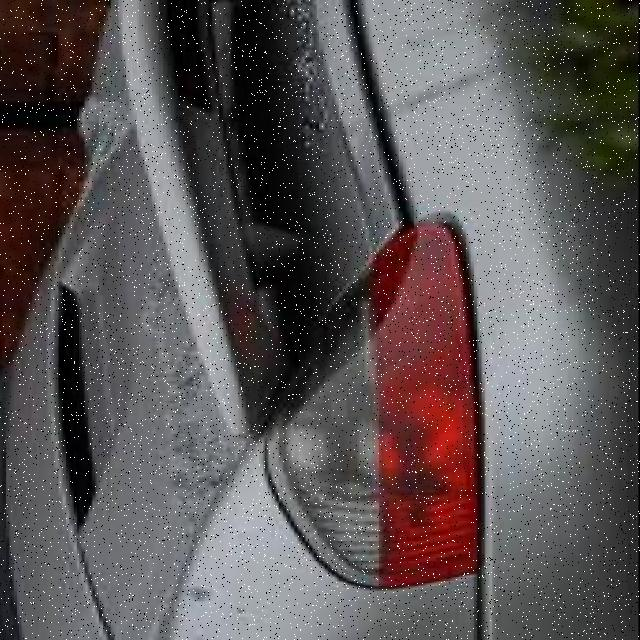damage: (139, 261, 252, 554), (278, 0, 343, 163), (79, 91, 134, 216)
